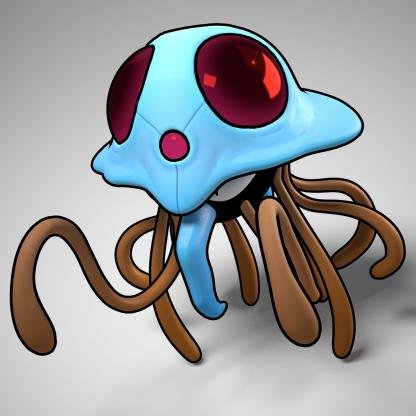Tentacruel: (7, 17, 416, 367)
